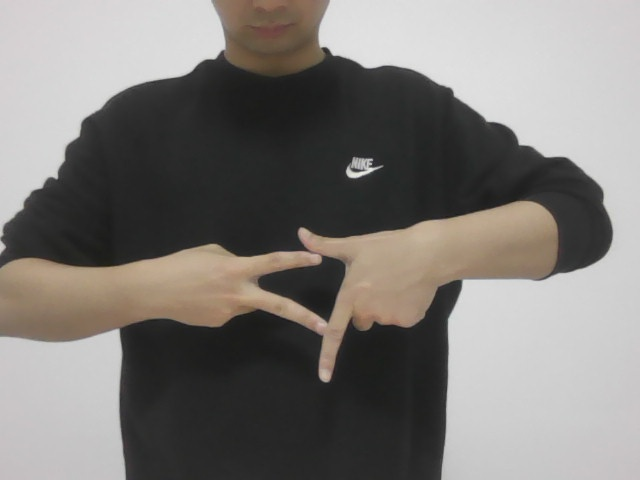introduce: (153, 215, 434, 395)
